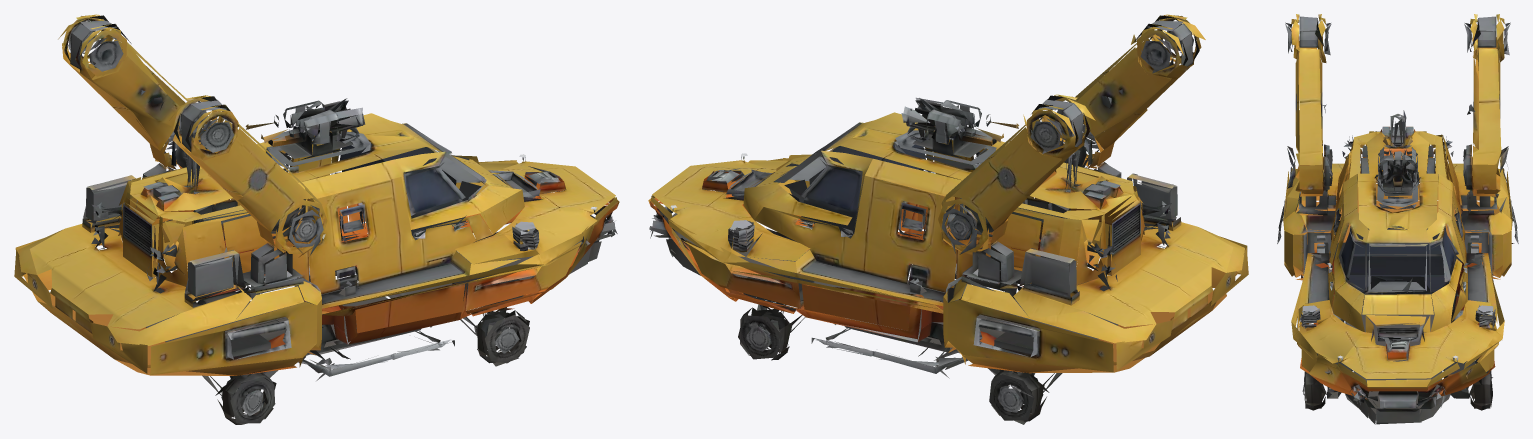
File: mariner_LOD2.glb
The picture shows the model from 3 angles, left to right: view 1: azimuth 30°, elevation 25°; view 2: azimuth 150°, elevation 25°; view 3: azimuth 270°, elevation 25°; orthographic projection. The views are drawn at different scales.
Parts seen in each view (by area): view 1: mariner_LOD2; view 2: mariner_LOD2; view 3: mariner_LOD2.
Part boxes in pixels (x1,y1,x2,y2): mariner_LOD2: (14,14,619,424); mariner_LOD2: (648,14,1248,424); mariner_LOD2: (1277,14,1518,424).
Bounding box in the file's own units: 1.01 × 0.6008 × 0.488.
Materials: 1 (1 with a texture image).
